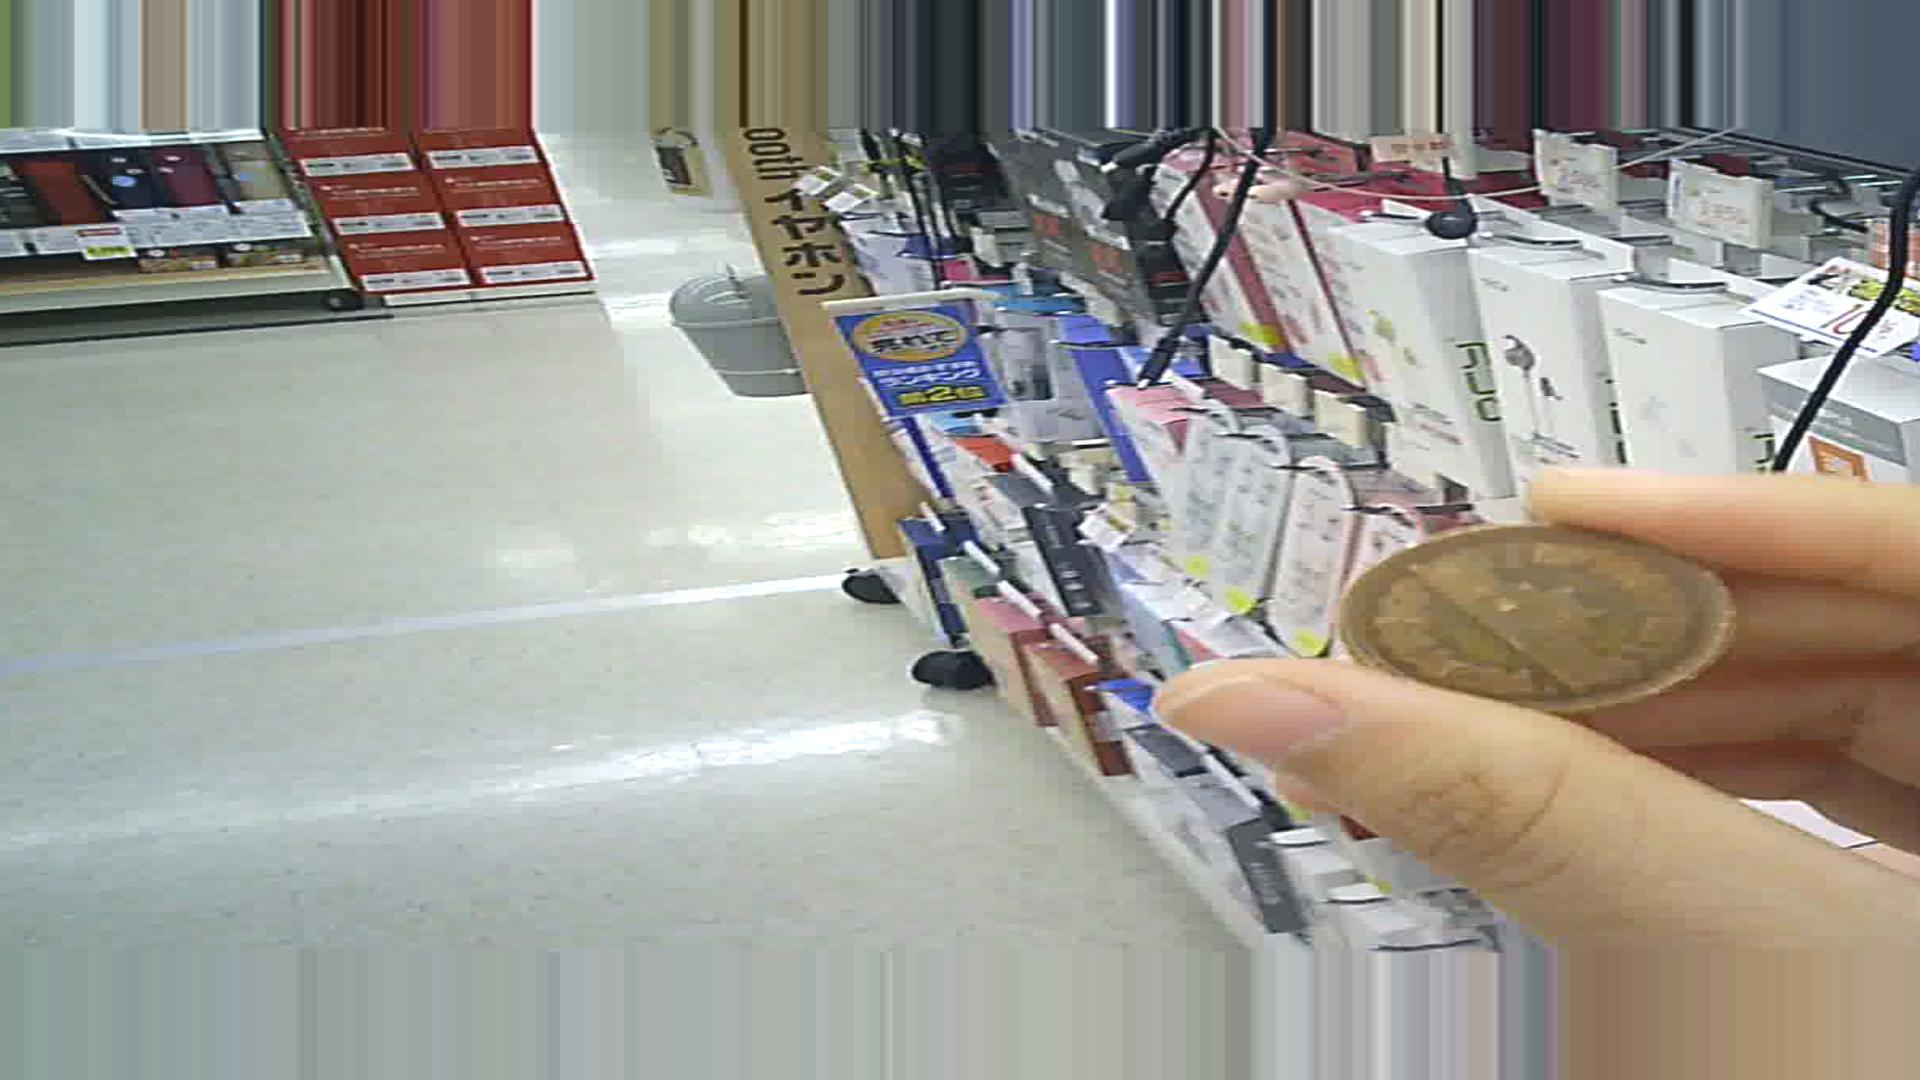10 Yen: (1333, 506, 1750, 707)
